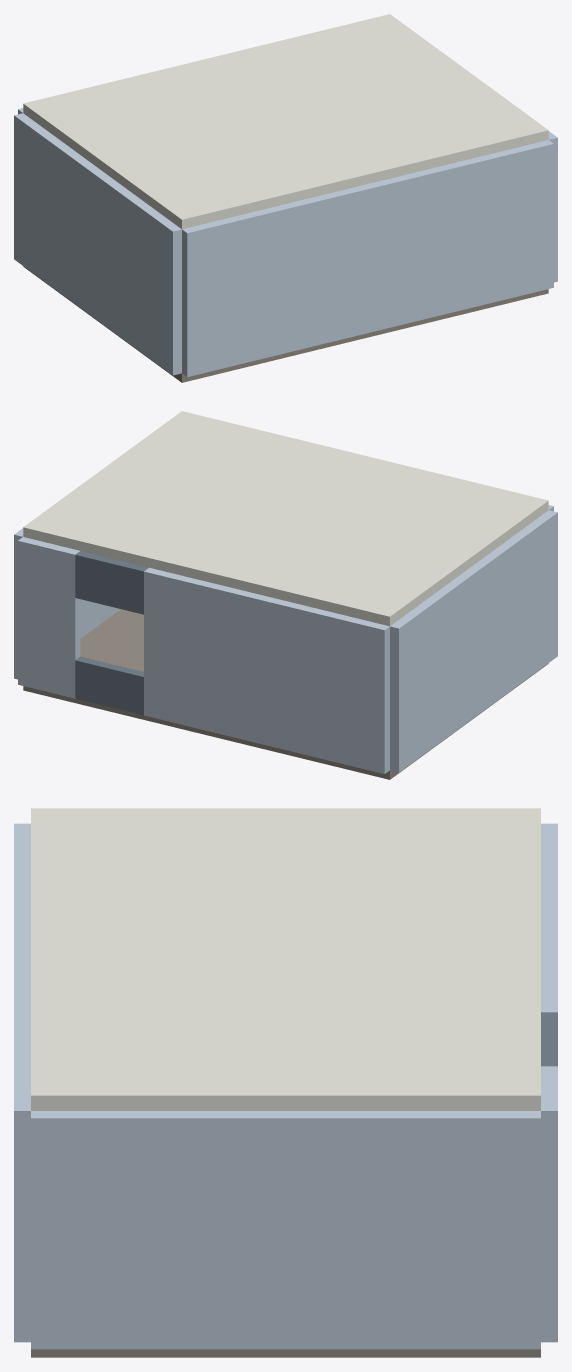
File: m1_custom_room.glb
3 views of the same model, one above another, from view 1: azimuth 30°, elevation 25°; view 2: azimuth 150°, elevation 25°; view 3: azimuth 270°, elevation 25° (orthographic). The views are drawn at different scales.
Parts seen in each view (by area): view 1: Ceiling, SouthWall, WestWall, Floor, EastWall; view 2: Ceiling, NorthWallLeft, WestWall, NorthWallRight, Floor, WindowLintel, WindowSill, EastWall; view 3: Ceiling, EastWall, SouthWall, NorthWallRight, Floor, NorthWallLeft, WindowLintel.
Boxes of the visible parts, x1,y1,x2,y2 form: Ceiling: (23, 14, 548, 229); SouthWall: (182, 140, 553, 376); WestWall: (14, 113, 181, 375); Floor: (23, 266, 548, 382); EastWall: (548, 131, 557, 282); Ceiling: (23, 411, 548, 626); NorthWallLeft: (144, 567, 389, 773); WestWall: (390, 510, 557, 772); NorthWallRight: (18, 537, 80, 698); Floor: (23, 609, 548, 779); WindowLintel: (75, 551, 148, 614); WindowSill: (75, 656, 143, 715); EastWall: (14, 528, 120, 679); Ceiling: (31, 808, 540, 1110); EastWall: (31, 1111, 540, 1349); SouthWall: (14, 823, 30, 1342); NorthWallRight: (541, 1066, 557, 1342); Floor: (31, 1349, 540, 1357); NorthWallLeft: (541, 823, 557, 1012); WindowLintel: (541, 1012, 557, 1066).
Bounding box in the file's own units: 8.4 × 3.4 × 6.4.
